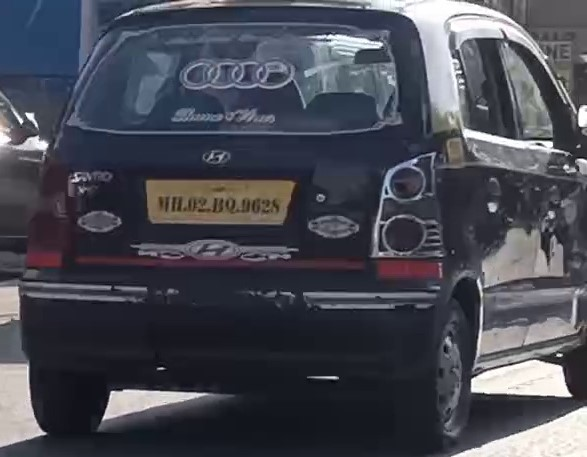MH02BQ9628: (143, 179, 294, 224)
